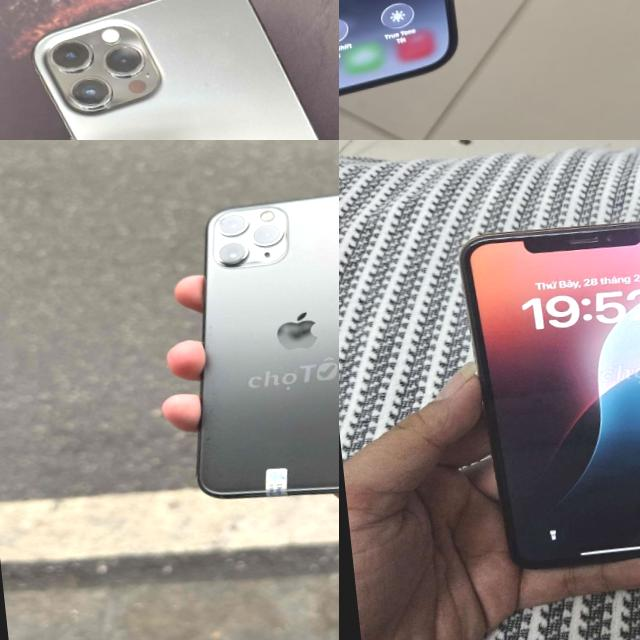gen_11: (159, 186, 339, 517)
gen_12_13: (29, 0, 339, 140)
gen_14: (339, 0, 478, 128)
gen_x_xs: (442, 200, 640, 592)
